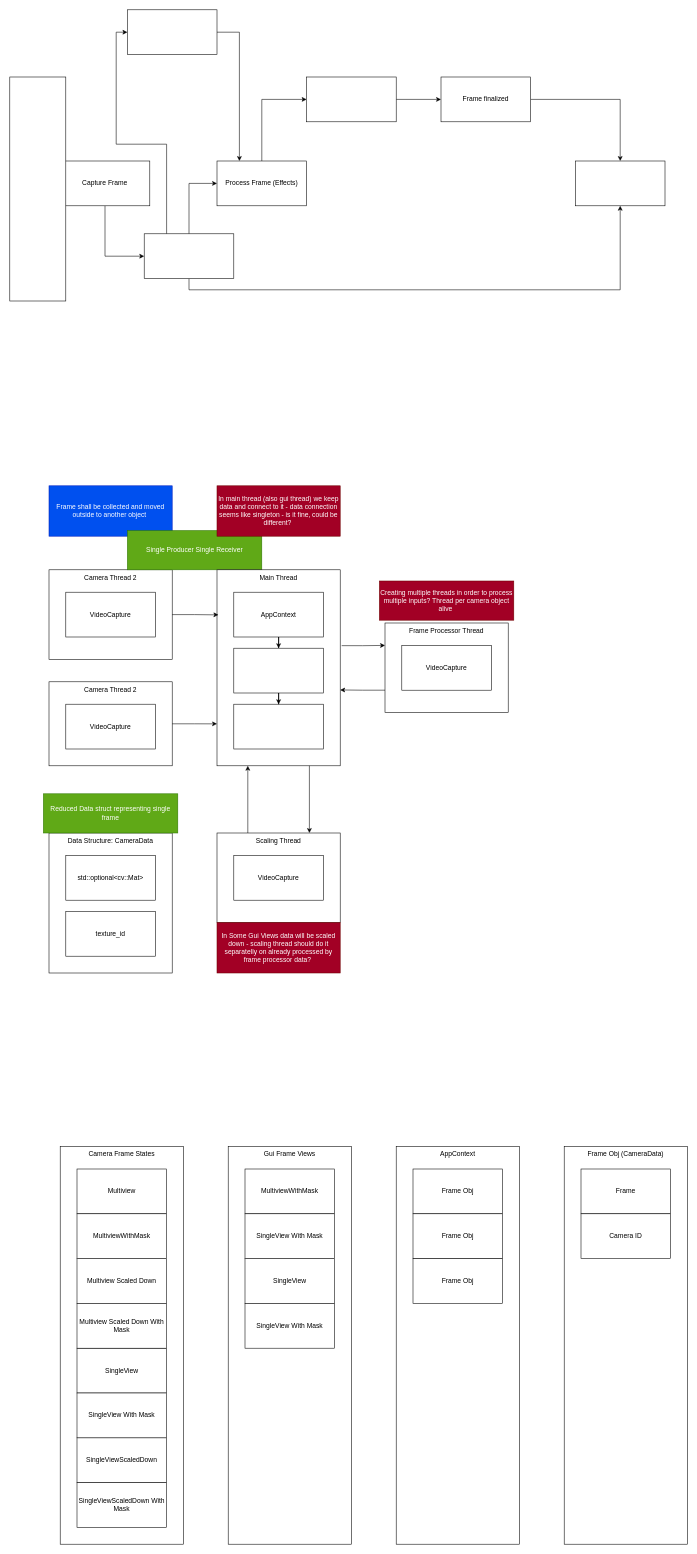
The diagram is 697 pixels wide and 1554 high, and some of its shapes have lost their labels. Each missing label, with the centre of its shape:
CameraContext: point (278, 670)
Detect: point (172, 32)
DS: CameraData: point (278, 726)
Frame Life: point (37, 188)
Frame Processed: point (351, 99)
Frame Raw: point (189, 256)
Show Frame: point (620, 183)
